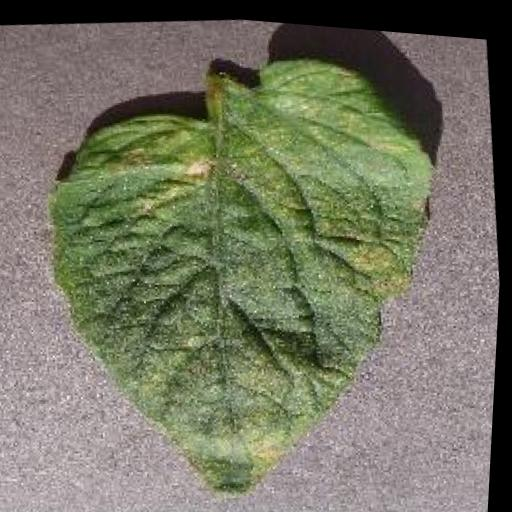Spider Mites: (25, 24, 474, 512)
